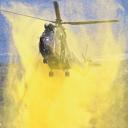helicopter: (18, 1, 122, 81)
